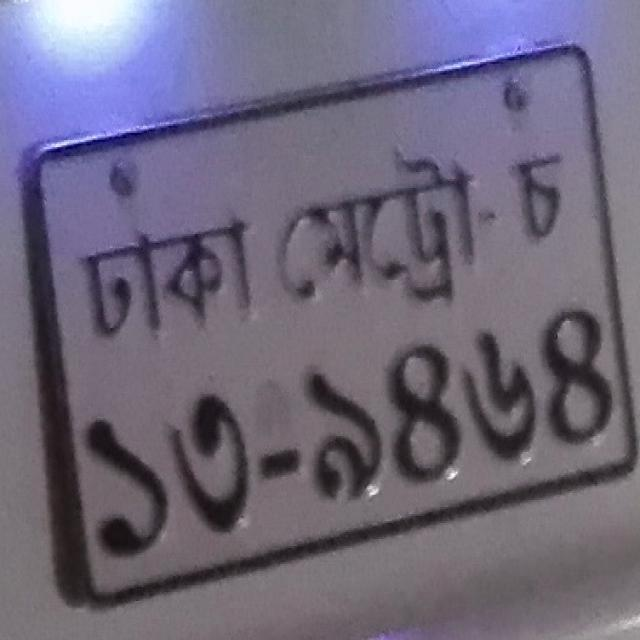numberplate: (18, 38, 636, 605)
